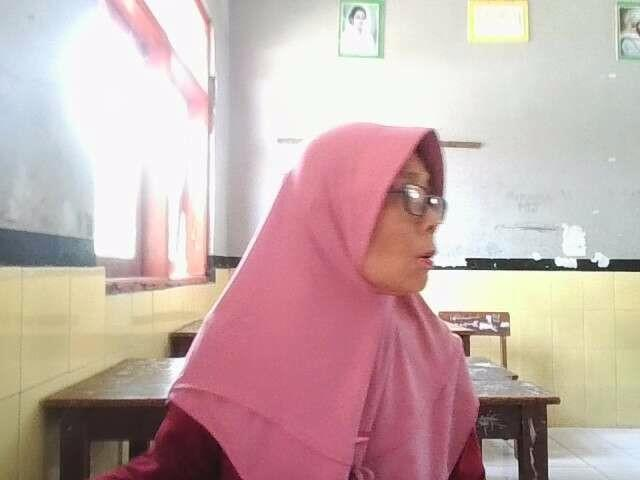cheating: (102, 102, 508, 480)
